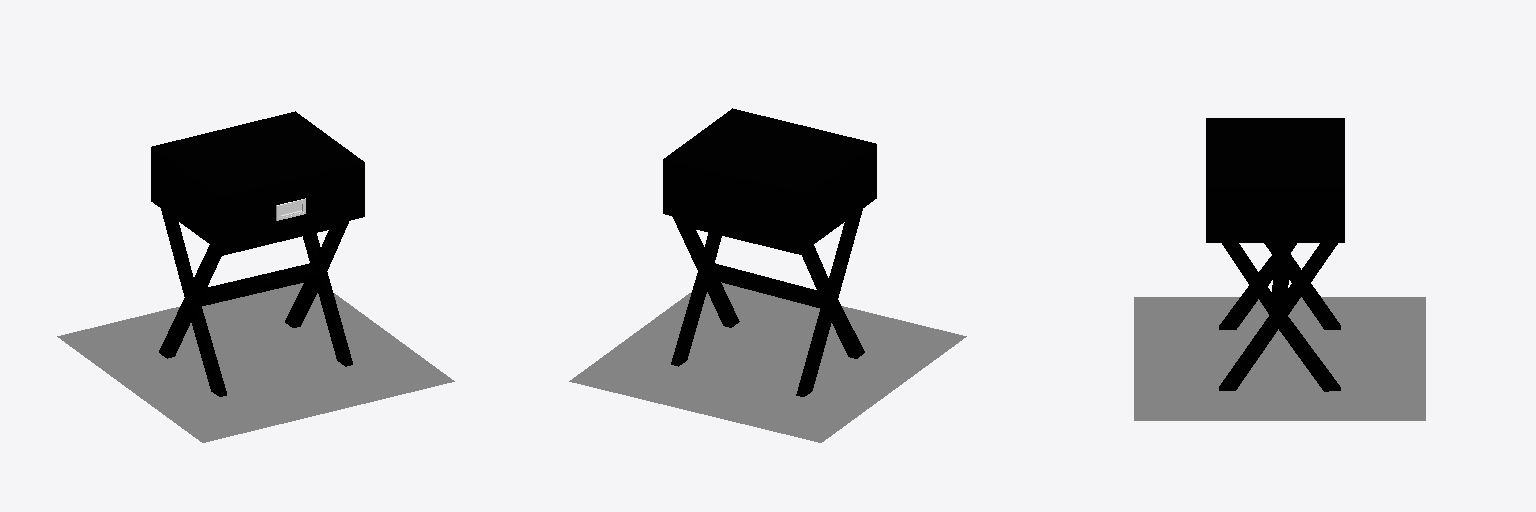
Rendered from ZIPC1758.obj.
The picture shows the model from 3 angles: view 1: azimuth 30°, elevation 25°; view 2: azimuth 150°, elevation 25°; view 3: azimuth 270°, elevation 25°; orthographic projection.
Visible parts, largest first — view 1: shadow_plane_v6, not_clear_obj_2_v6, not_clear_obj_1_v6; view 2: shadow_plane_v6, not_clear_obj_2_v6, not_clear_obj_1_v6; view 3: shadow_plane_v6, not_clear_obj_2_v6, not_clear_obj_1_v6.
Part boxes in pixels (x1,y1,x2,y2): shadow_plane_v6: (57,283,454,442); not_clear_obj_2_v6: (151,111,364,255); not_clear_obj_1_v6: (159,209,352,396); shadow_plane_v6: (569,282,966,442); not_clear_obj_2_v6: (663,108,876,254); not_clear_obj_1_v6: (671,209,864,396); shadow_plane_v6: (1134,297,1425,420); not_clear_obj_2_v6: (1206,118,1344,242); not_clear_obj_1_v6: (1219,243,1340,391).
Bounding box in the file's own units: 84.01 × 65.5 × 84.01.